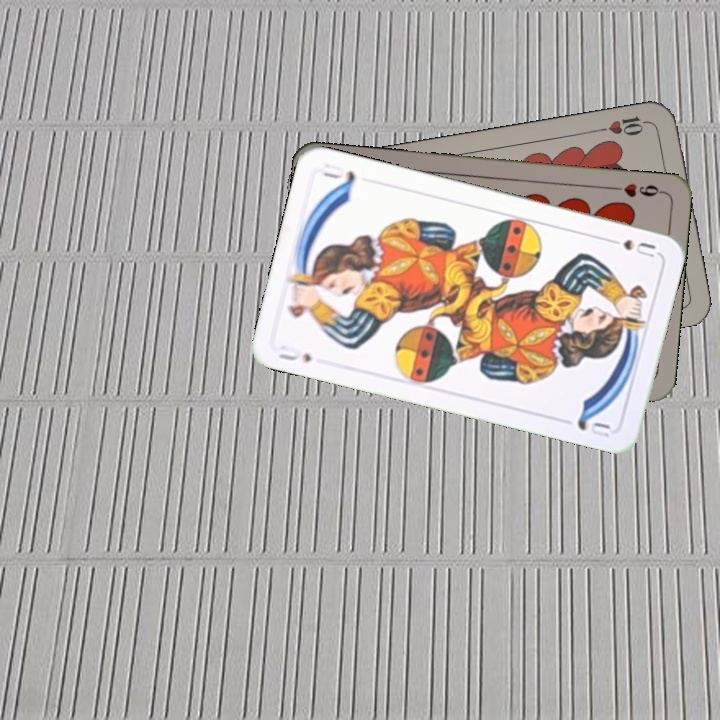H10: (595, 111, 654, 139)
H9: (606, 179, 666, 200)
SU: (601, 233, 658, 260), (274, 341, 314, 365)
